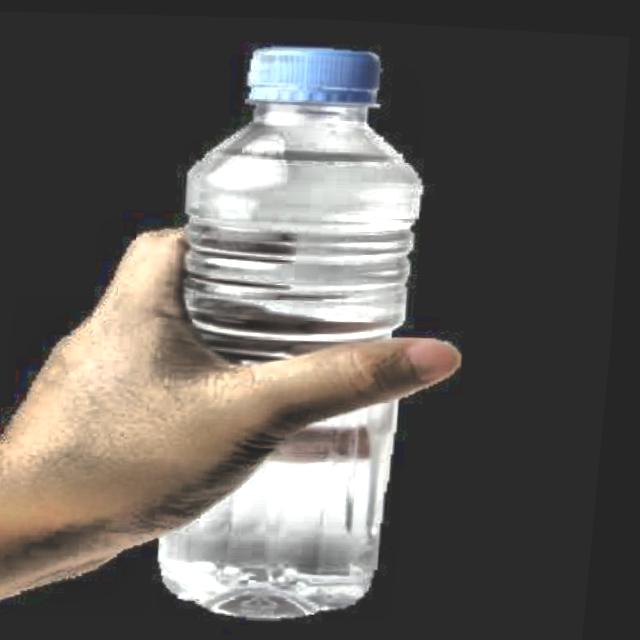Bottles: (136, 20, 446, 626)
